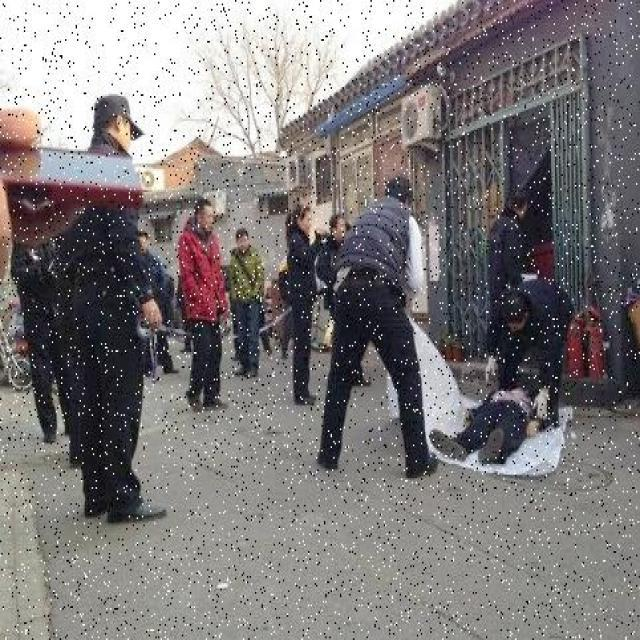fall: (430, 378, 552, 462)
